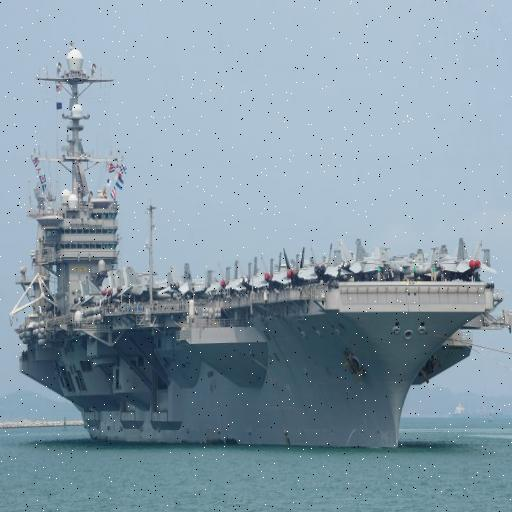Portanaves: (9, 35, 512, 454)
